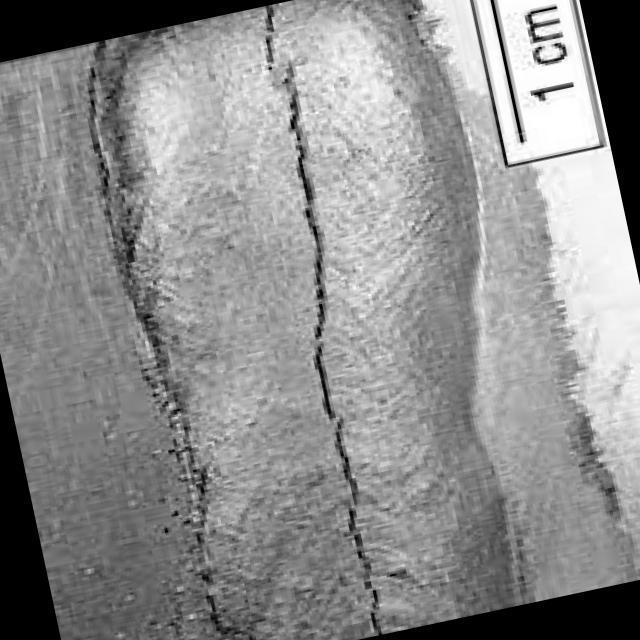defect: (252, 5, 390, 634)
